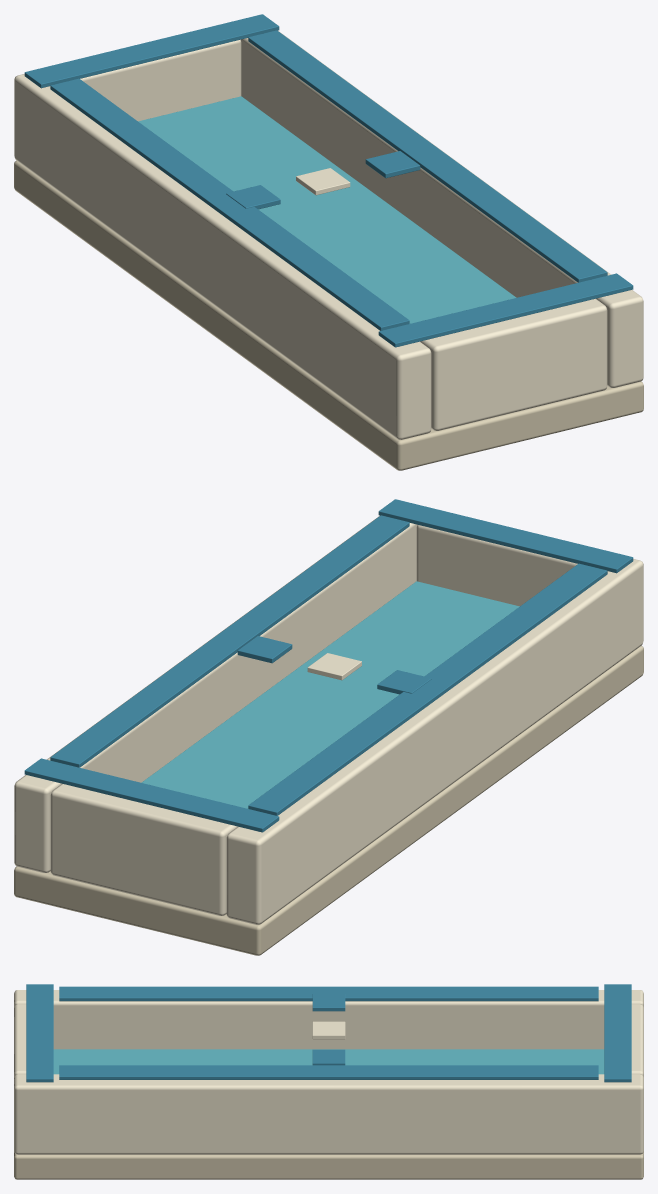
Rendered from fantasy-bathhouse-and-thermal-sanctuary-fantasy-bathho-4fa5e2b0__29438.glb.
The picture shows the model from 3 angles, top to bottom: view 1: azimuth 30°, elevation 25°; view 2: azimuth 150°, elevation 25°; view 3: azimuth 270°, elevation 25°; orthographic projection. The views are drawn at different scales.
Parts seen in each view (by area): view 1: fantasy-bathhouse-and-thermal-sanctuary-foot-washing-channel (×4); view 2: fantasy-bathhouse-and-thermal-sanctuary-foot-washing-channel (×4); view 3: fantasy-bathhouse-and-thermal-sanctuary-foot-washing-channel (×4).
Part boxes in pixels (x1,y1,x2,y2): fantasy-bathhouse-and-thermal-sanctuary-foot-washing-channel (×4): [14, 14, 643, 470]; fantasy-bathhouse-and-thermal-sanctuary-foot-washing-channel (×4): [14, 499, 643, 955]; fantasy-bathhouse-and-thermal-sanctuary-foot-washing-channel (×4): [14, 984, 643, 1179].
Size of the model in its own units: 0.85 by 0.407 by 2.3.
